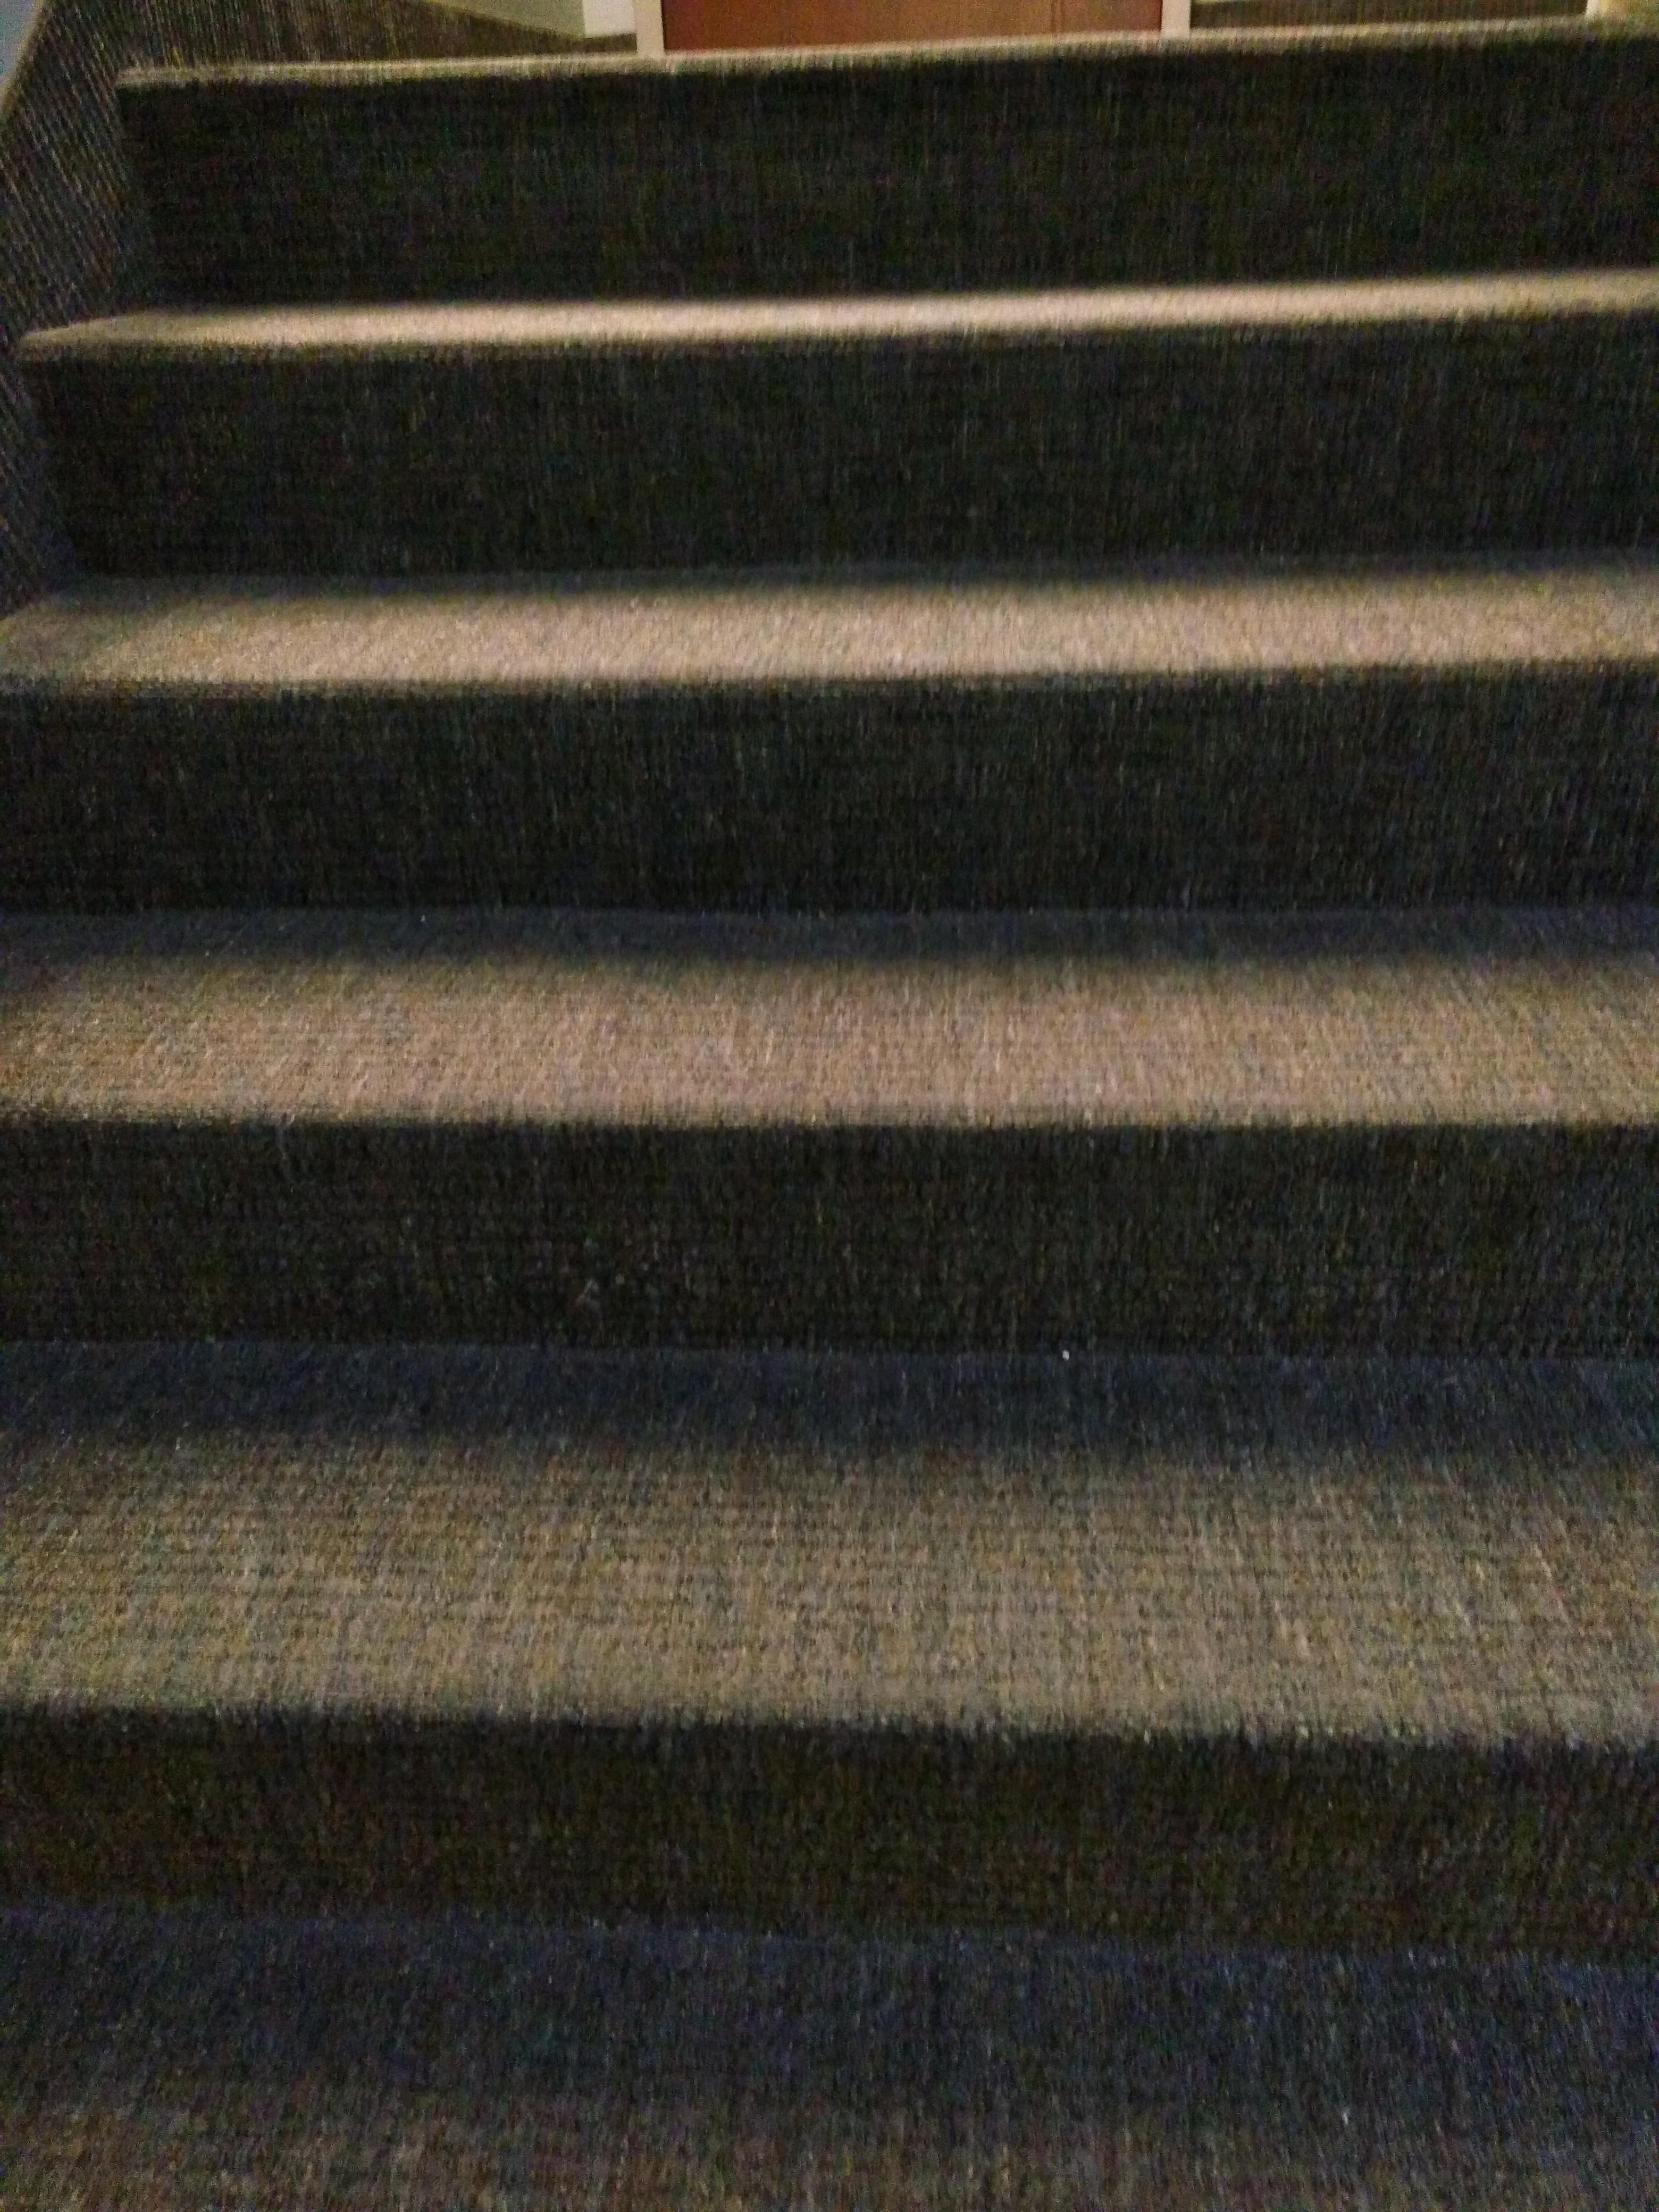stairs_up: (80, 37, 1629, 2099)
